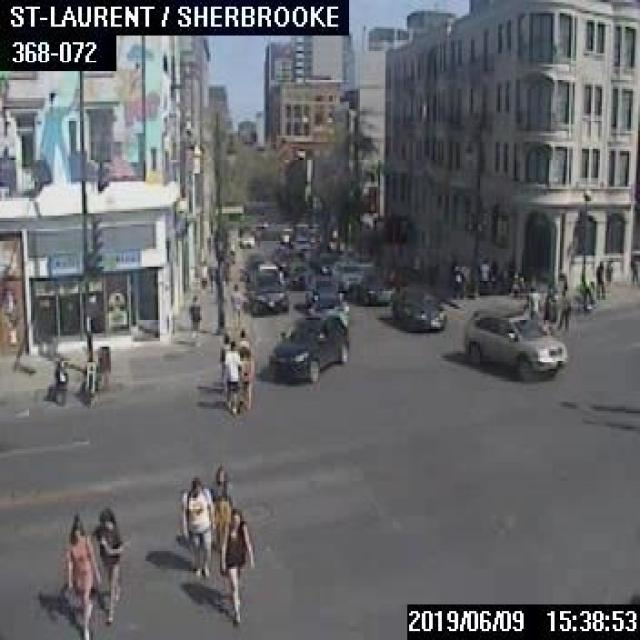pedestrian: (62, 512, 97, 638), (220, 508, 254, 626), (180, 476, 214, 576), (95, 505, 121, 622), (212, 462, 231, 550), (222, 338, 240, 412), (240, 344, 252, 408), (218, 331, 232, 375), (521, 285, 540, 317), (188, 293, 200, 341), (230, 282, 242, 330), (540, 285, 554, 322), (555, 288, 567, 330), (594, 258, 604, 298), (629, 247, 638, 282), (236, 326, 248, 351), (478, 256, 488, 280), (603, 259, 610, 291)
vehicle: (460, 302, 567, 380), (266, 314, 347, 382), (389, 281, 446, 331), (246, 271, 288, 313), (304, 282, 348, 320), (355, 272, 392, 303), (330, 259, 362, 287), (80, 359, 96, 407), (52, 356, 67, 404), (287, 261, 311, 286), (255, 263, 282, 282), (238, 232, 253, 246)
